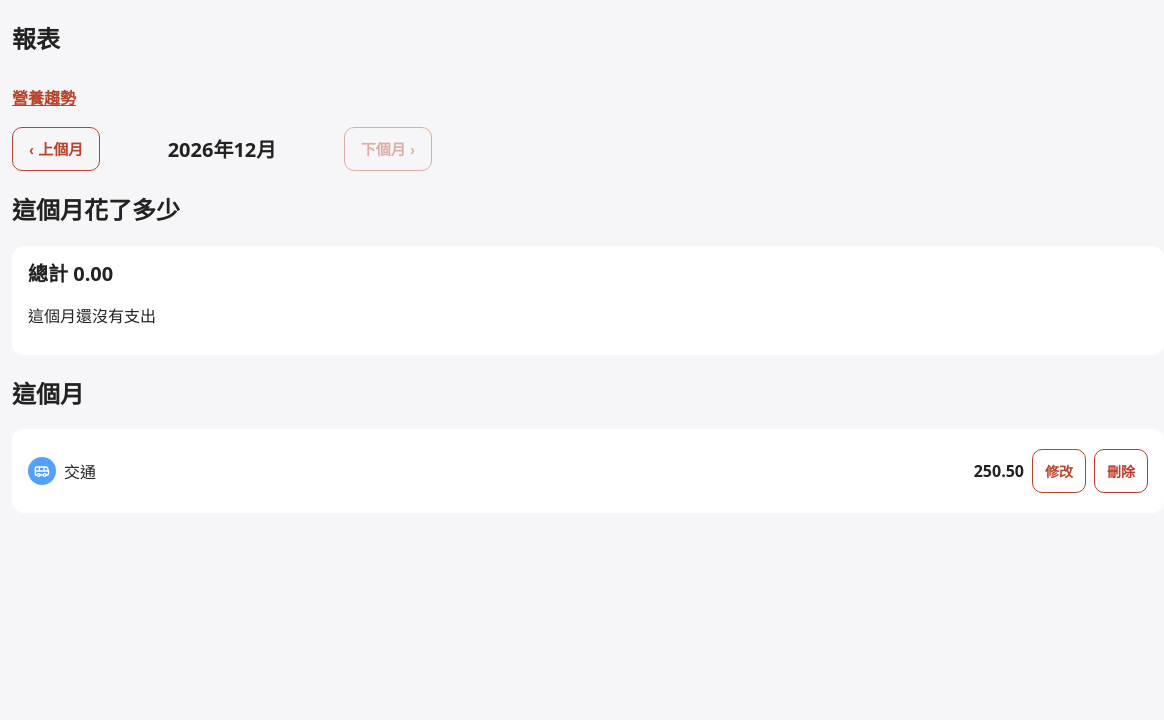
Test: 記帳 /expenses › 修改金額格式被後端拒絕時顯示具體訊息
The width and height of the screenshot is (1164, 720).
Expected: the text "250.50" is shown, [974,460,1024,482]
Click the button "修改": click(1059, 471) [1032,449,1086,493]
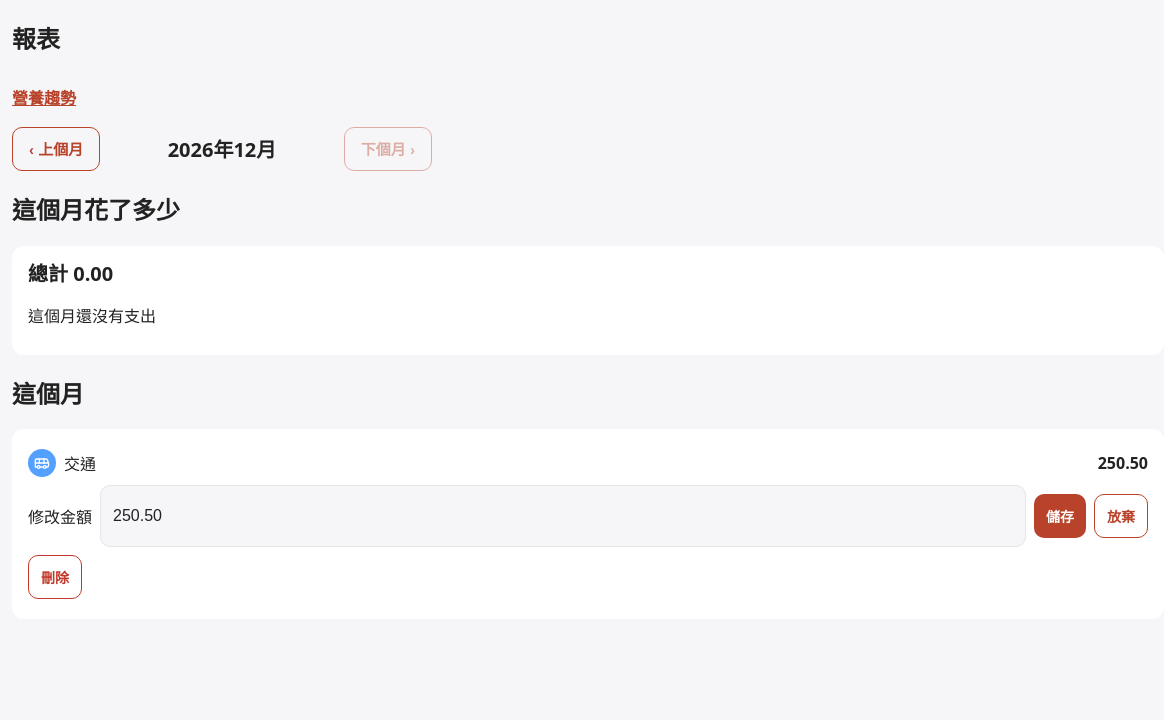
Replace the text in the field labelled "修改金額" with "0": (563, 516) [100,485,1026,547]
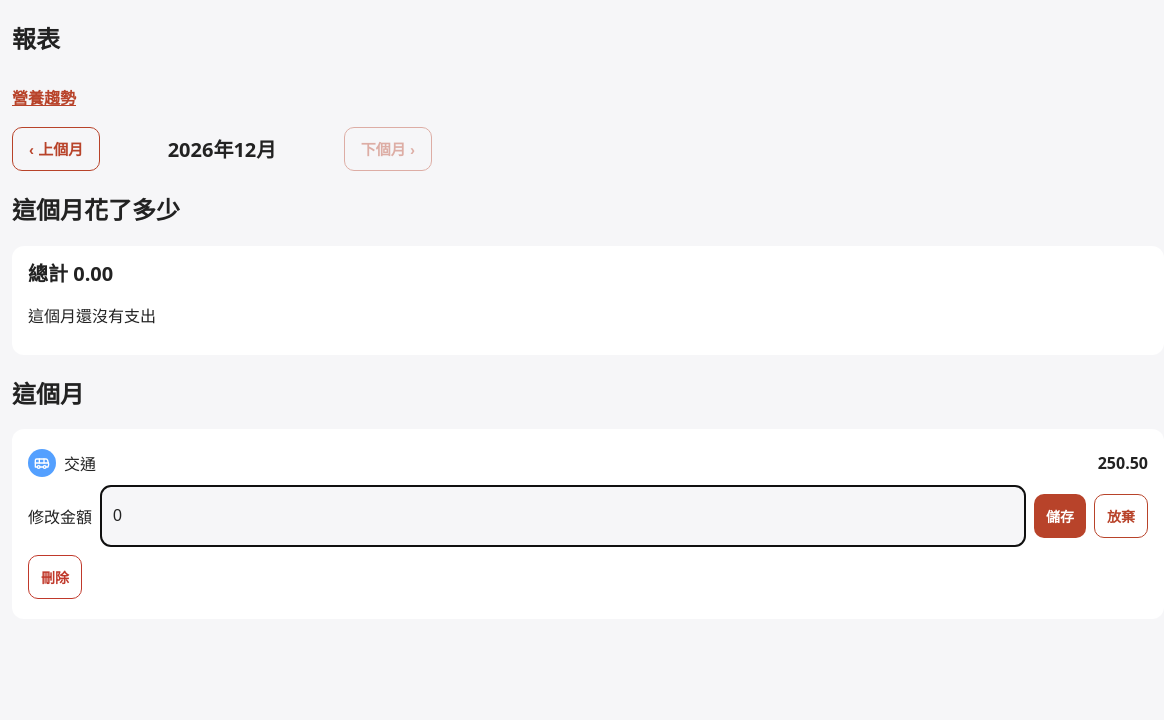
Click the button "儲存": click(1060, 516) [1034,494,1086,538]
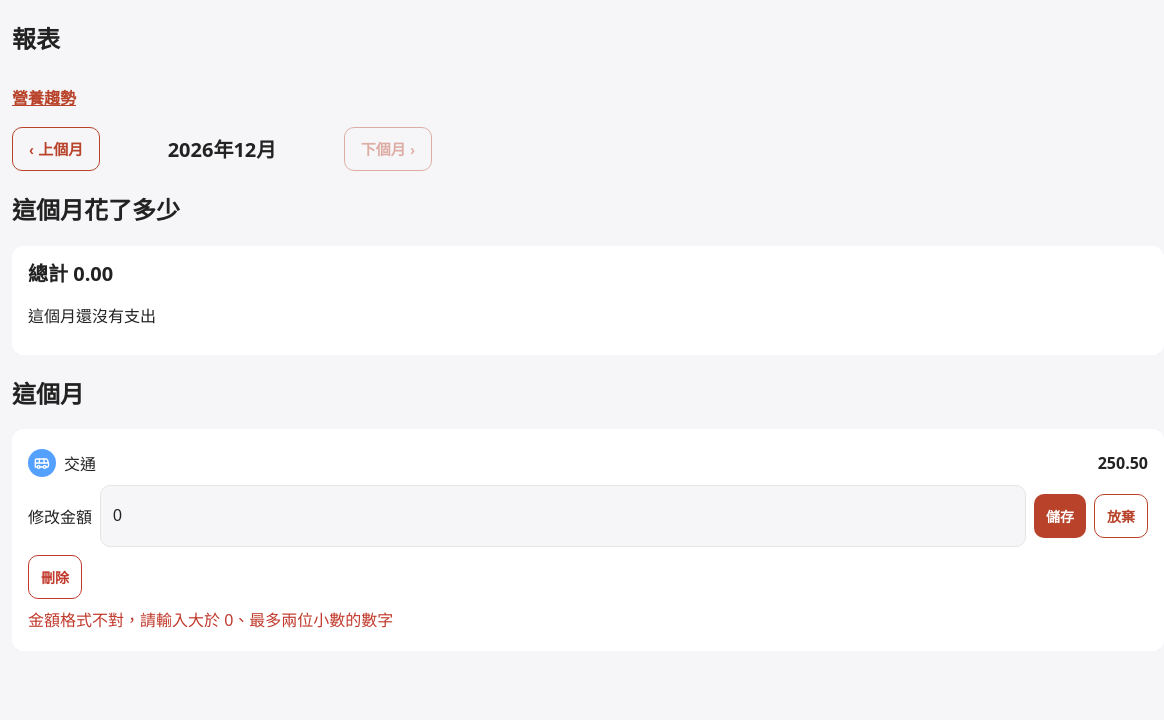
Result: the message "金額格式不對，請輸入大於 0、最多兩位小數的數字" is shown at [28,609,393,631]
